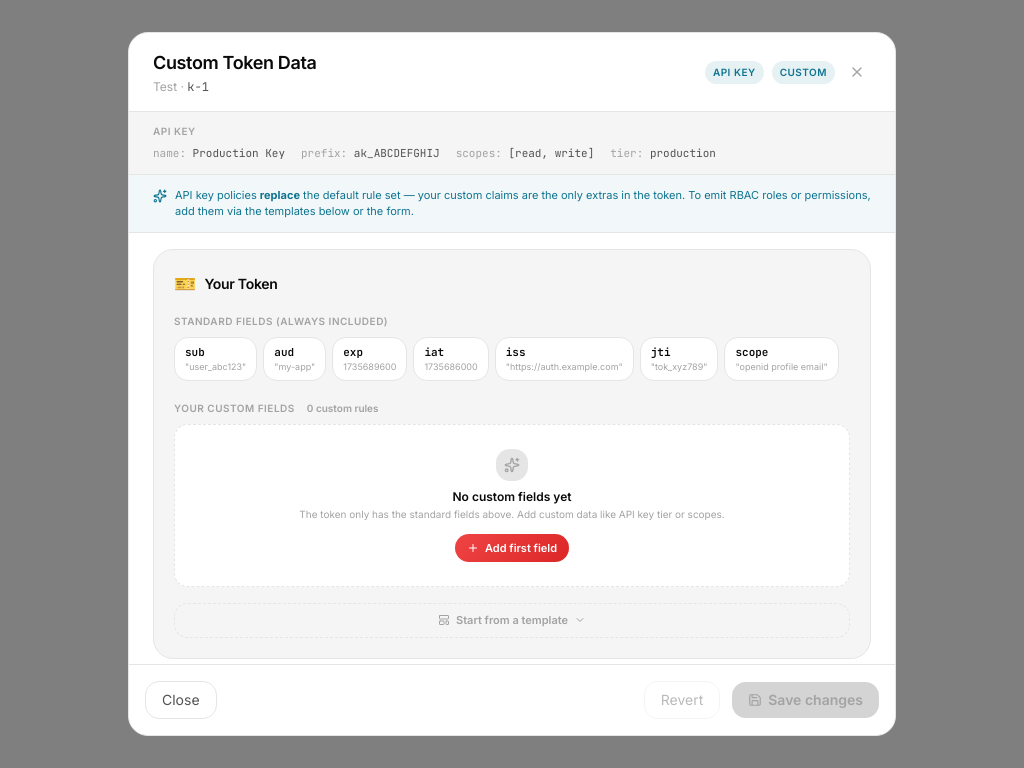
Test case: ApiKeyClaimsTab - claim name validation › accepts a namespaced URI (green status)
Click the button with test id "api-key-claim-policy-add-btn" at (512, 548), box 455,534 -> 569,562
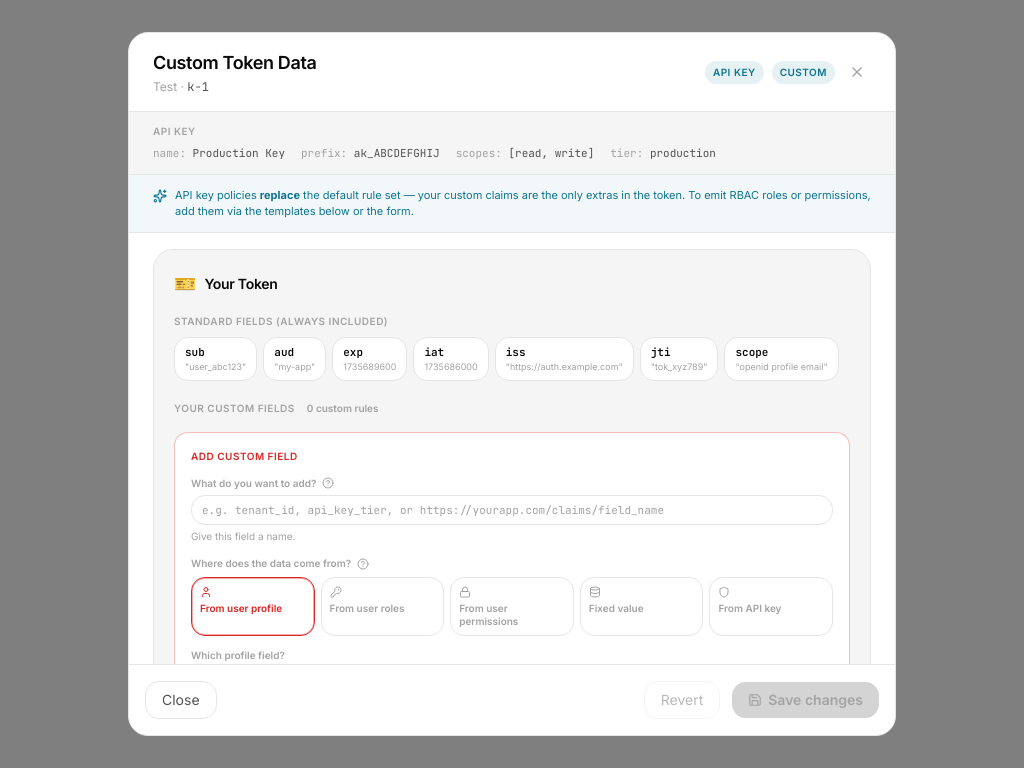
Replace the text in the field with test id "api-key-claim-name-input" with "https://authglow.example.com/claims/api_key_tier" at (512, 510), box 191,494 -> 833,525
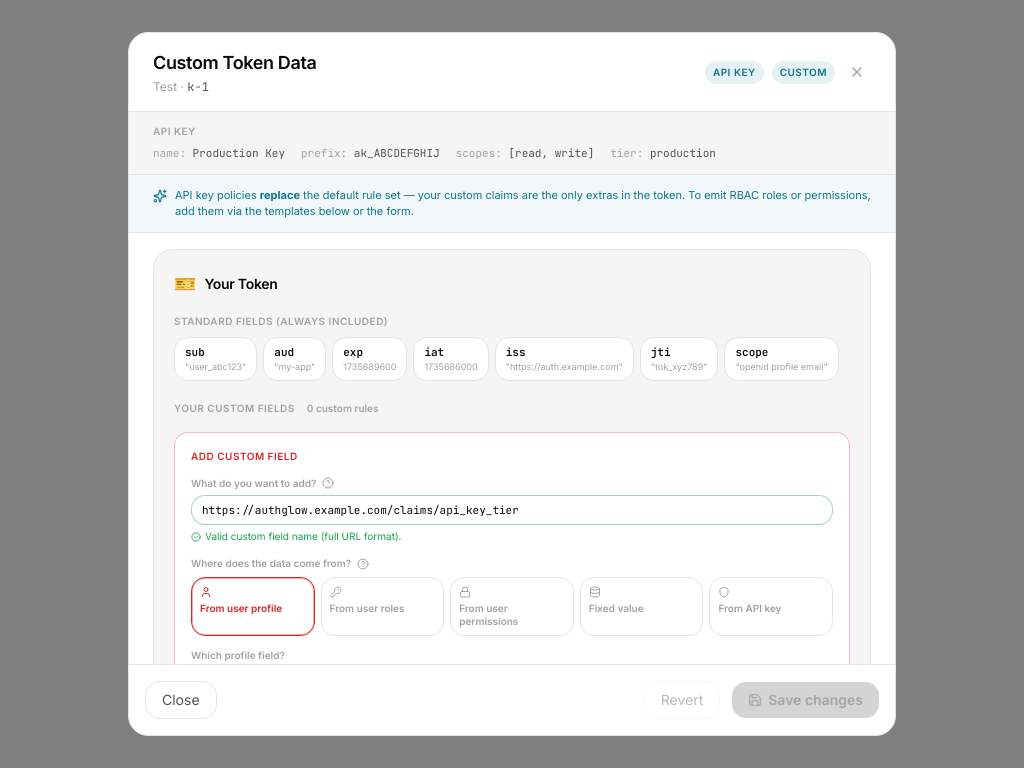
Now the element with test id "api-key-claim-name-status" shows "Valid custom field", box 205,530 -> 401,542
